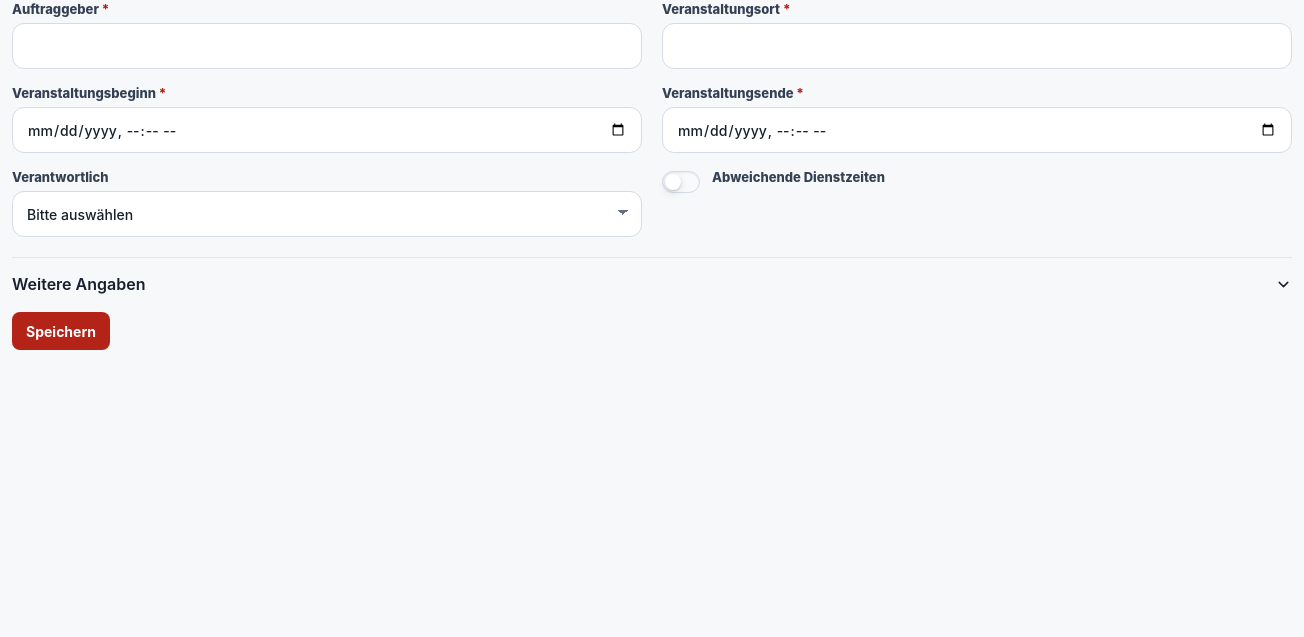
concise service overview form › reveals optional contact fields in one disclosure
The width and height of the screenshot is (1304, 637).
Click the button "Weitere Angaben" at (79, 284), box x1=12 y1=274 x2=1292 y2=294
(page scrolled)
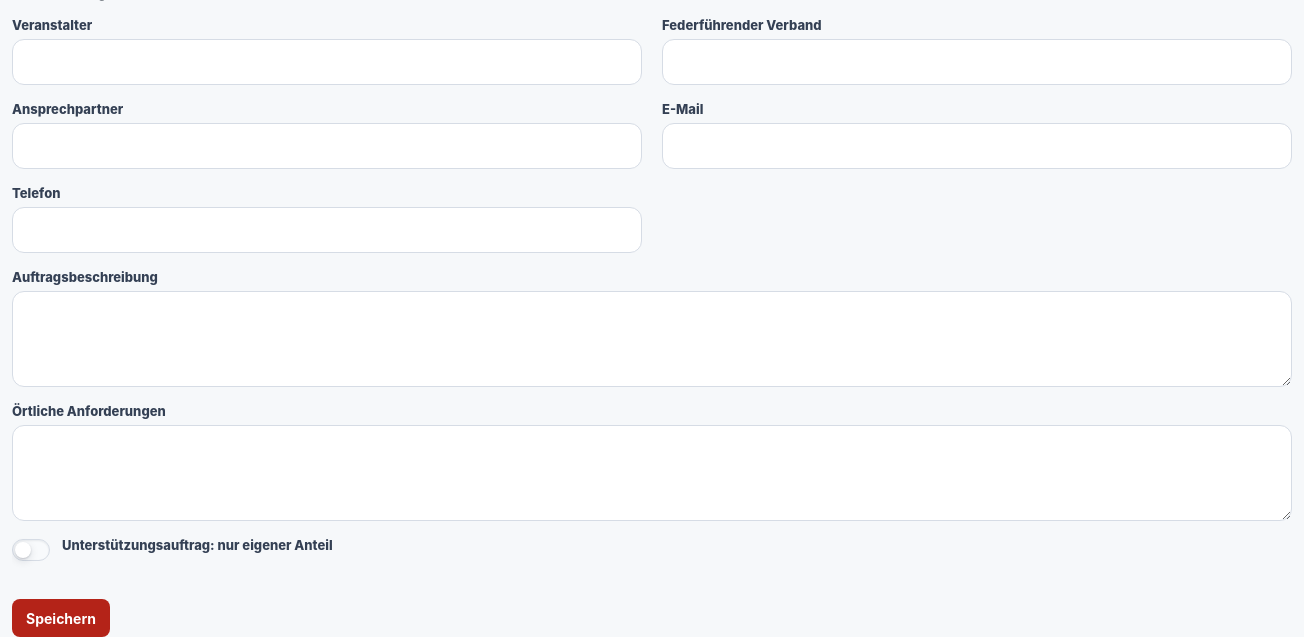
Expected: the field labelled "Ansprechpartner" is shown, x1=12 y1=123 x2=642 y2=169
Expected: the field labelled "Veranstalter" is shown, x1=12 y1=39 x2=642 y2=85
Expected: the text box labelled "Auftragsbeschreibung" is shown, x1=12 y1=291 x2=1292 y2=387
